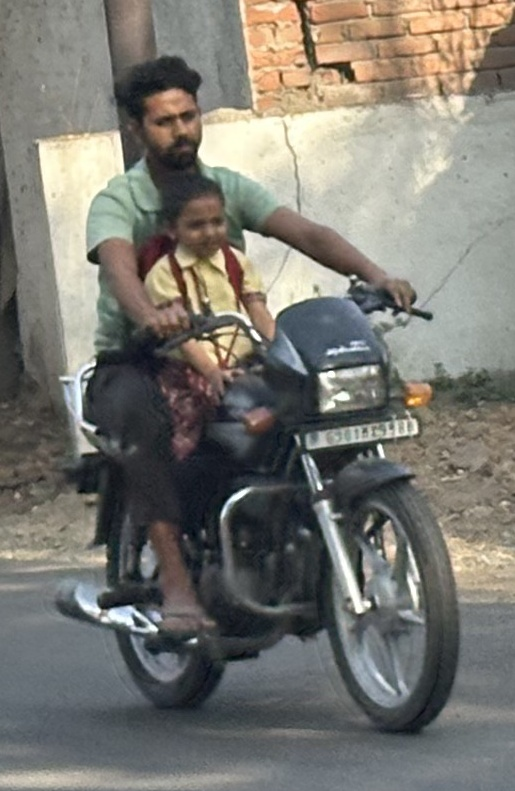BikeWithRider: (40, 42, 474, 741)
NoHelmet: (105, 46, 220, 175), (150, 170, 240, 259)
